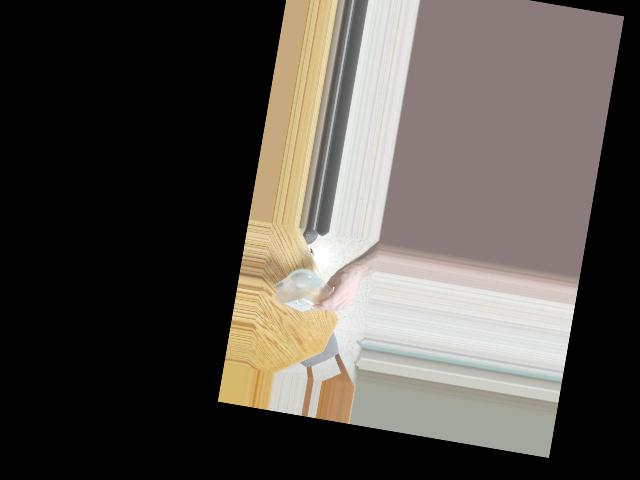cheese: (275, 270, 344, 316)
